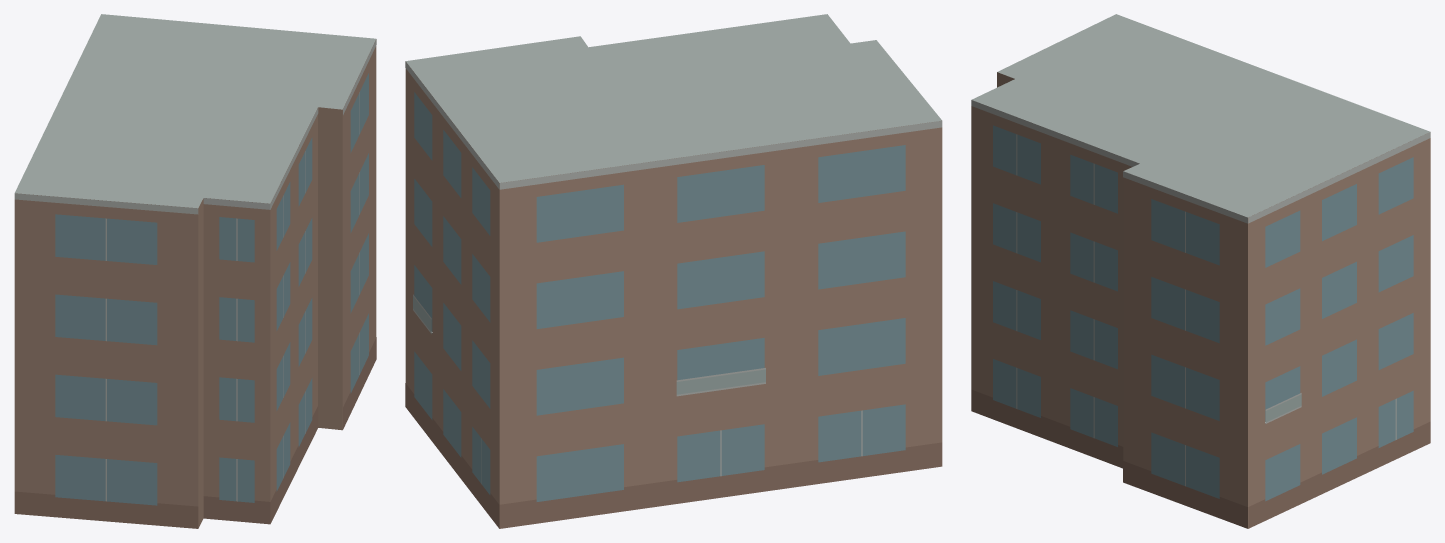
Rendered from survey-upis-32810001.glb.
3 views of the same model, side by side, from view 1: azimuth 30°, elevation 25°; view 2: azimuth 150°, elevation 25°; view 3: azimuth 270°, elevation 25° (orthographic). The views are drawn at different scales.
Parts seen in each view (by area): view 1: survey-upis-32810001.tmp; view 2: survey-upis-32810001.tmp; view 3: survey-upis-32810001.tmp.
Boxes of the visible parts, x1,y1,x2,y2 form: survey-upis-32810001.tmp: [14, 14, 376, 528]; survey-upis-32810001.tmp: [405, 14, 942, 528]; survey-upis-32810001.tmp: [971, 14, 1430, 528].
Bounding box in the file's own units: 17.54 × 12.5 × 16.73.
